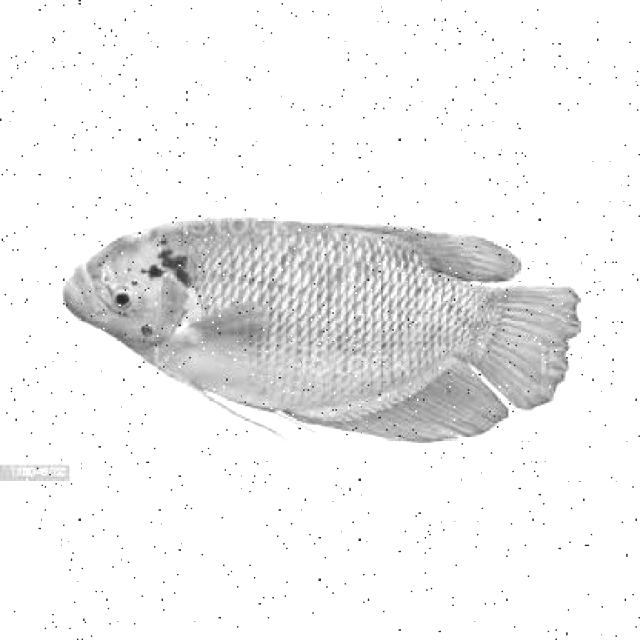gurame: (60, 212, 580, 443)
